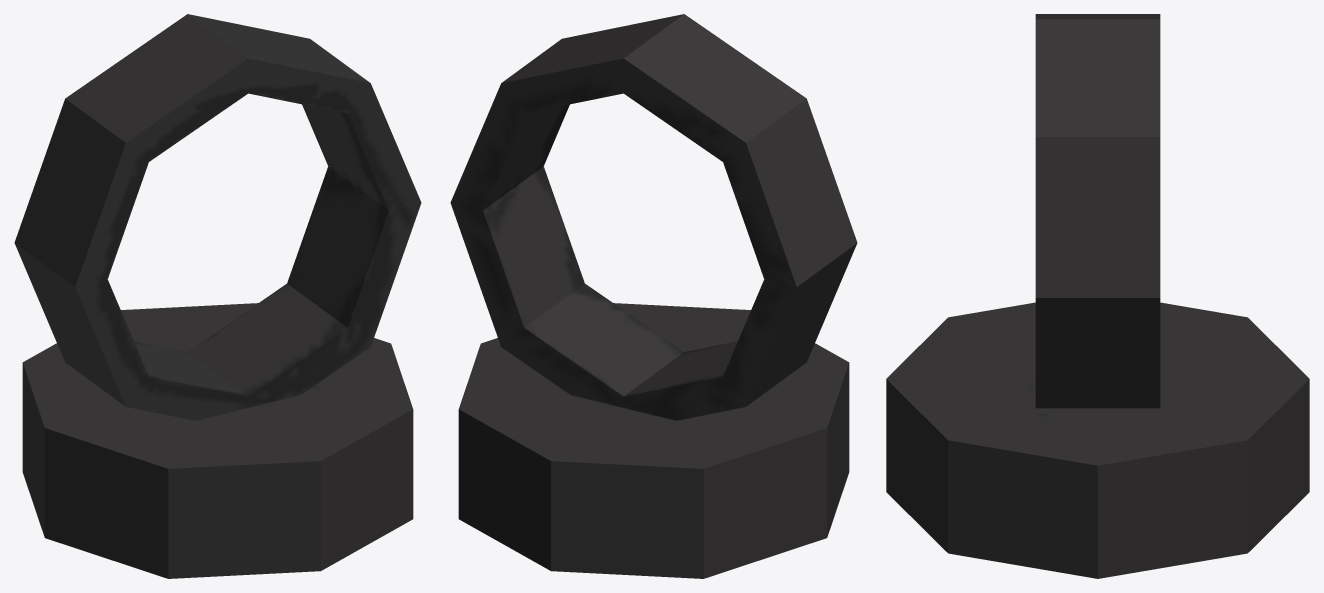
The model's file is PneuObstaculo.fbx.
The picture shows the model from 3 angles, left to right: view 1: azimuth 30°, elevation 25°; view 2: azimuth 150°, elevation 25°; view 3: azimuth 270°, elevation 25°; orthographic projection. The views are drawn at different scales.
Visible parts, largest first — view 1: Pneus; view 2: Pneus; view 3: Pneus.
Part boxes in pixels (box(x1,y1,x2,y2)): Pneus: box(14, 14, 421, 578); Pneus: box(450, 14, 857, 578); Pneus: box(886, 14, 1309, 578).
Bounding box in the file's own units: 14.59 × 18.5 × 15.02.
Materials: 1 (1 with a texture image).
